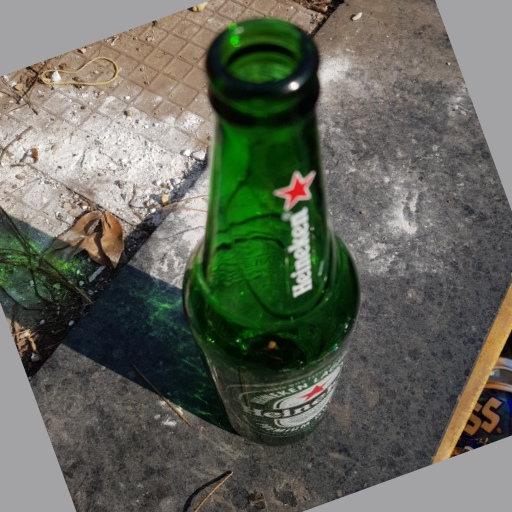Glass_1: (186, 18, 364, 447)
